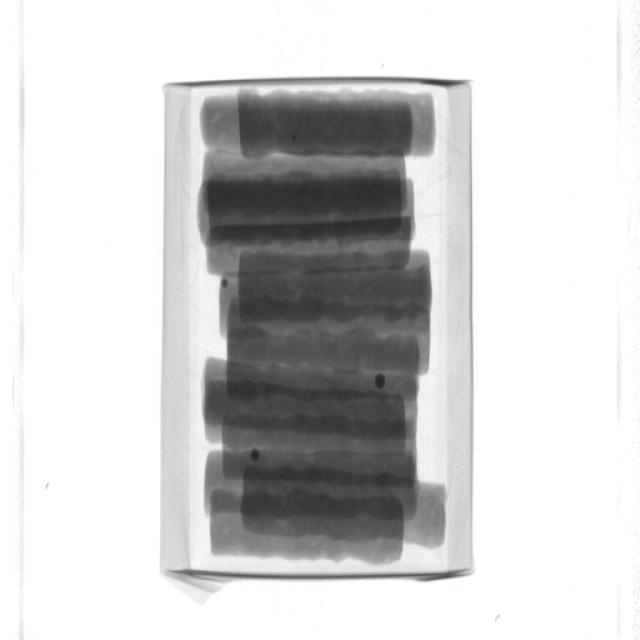ym: (376, 375, 387, 390), (252, 451, 261, 463), (222, 279, 229, 289), (293, 136, 299, 142)
